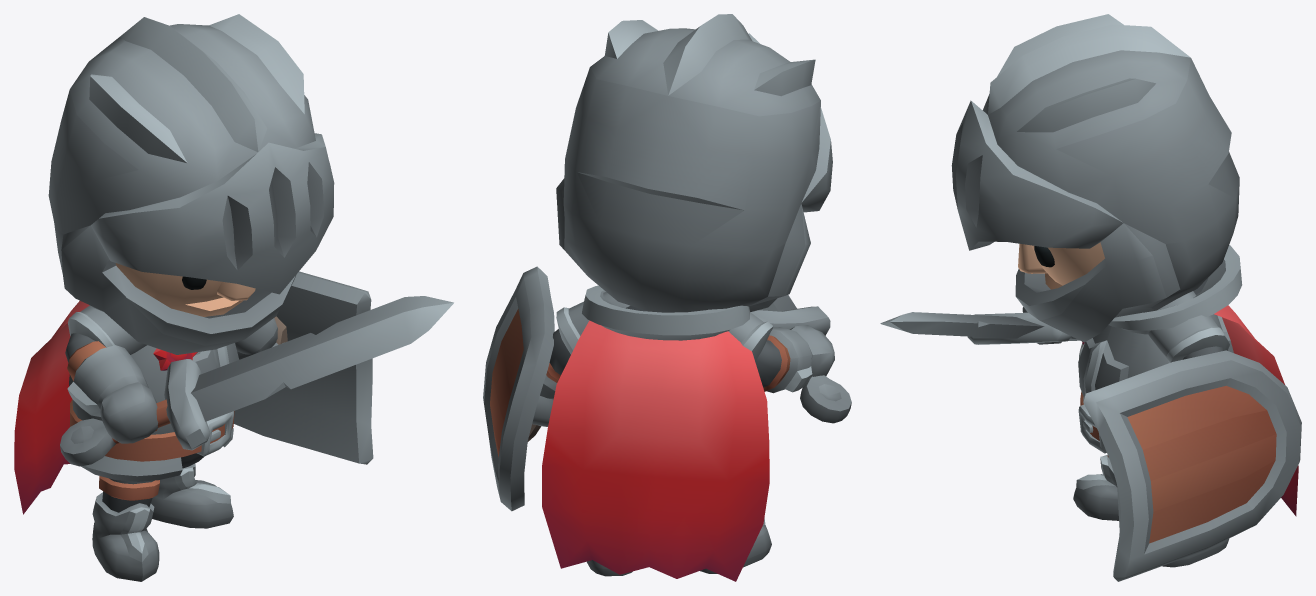
Rendered from knight.glb.
3 renders of one model, left to right at view 1: azimuth 30°, elevation 25°; view 2: azimuth 150°, elevation 25°; view 3: azimuth 270°, elevation 25°, orthographic. The views are drawn at different scales.
Parts seen in each view (by area): view 1: Knight_Helmet, 1H_Sword, Badge_Shield, Knight_ArmRight, Knight_Body, Knight_Cape, Knight_LegRight, Knight_Head, Knight_LegLeft, Knight_ArmLeft; view 2: Knight_Helmet, Knight_Cape, Badge_Shield, Knight_ArmRight, Knight_Body, 1H_Sword, Knight_ArmLeft, Knight_LegRight; view 3: Knight_Helmet, Badge_Shield, Knight_Body, 1H_Sword, Knight_ArmLeft, Knight_Head, Knight_Cape, Knight_LegRight.
Boxes of the visible parts, left/top/right/bottom form: Knight_Helmet: left=48, top=14, right=334, bottom=354; 1H_Sword: left=60, top=296, right=453, bottom=466; Badge_Shield: left=234, top=271, right=373, bottom=464; Knight_ArmRight: left=65, top=305, right=158, bottom=443; Knight_Body: left=69, top=306, right=239, bottom=481; Knight_Cape: left=14, top=301, right=89, bottom=514; Knight_LegRight: left=92, top=476, right=159, bottom=581; Knight_Head: left=115, top=263, right=255, bottom=316; Knight_LegLeft: left=151, top=463, right=233, bottom=528; Knight_ArmLeft: left=235, top=318, right=284, bottom=359; Knight_Helmet: left=556, top=14, right=832, bottom=312; Knight_Cape: left=542, top=320, right=769, bottom=581; Badge_Shield: left=483, top=266, right=554, bottom=511; Knight_ArmRight: left=728, top=312, right=834, bottom=393; Knight_Body: left=582, top=285, right=749, bottom=340; 1H_Sword: left=750, top=295, right=851, bottom=423; Knight_ArmLeft: left=532, top=292, right=629, bottom=426; Knight_LegRight: left=700, top=517, right=771, bottom=573; Knight_Helmet: left=951, top=14, right=1239, bottom=342; Badge_Shield: left=1083, top=350, right=1301, bottom=581; Knight_Body: left=1078, top=245, right=1242, bottom=453; 1H_Sword: left=880, top=312, right=1079, bottom=344; Knight_ArmLeft: left=1147, top=291, right=1229, bottom=362; Knight_Head: left=1018, top=242, right=1104, bottom=289; Knight_Cape: left=1214, top=305, right=1298, bottom=516; Knight_LegRight: left=1073, top=454, right=1118, bottom=520.
Size of the model in its own units: 1.63 by 2.43 by 1.85.
1 material, 1 textured.
